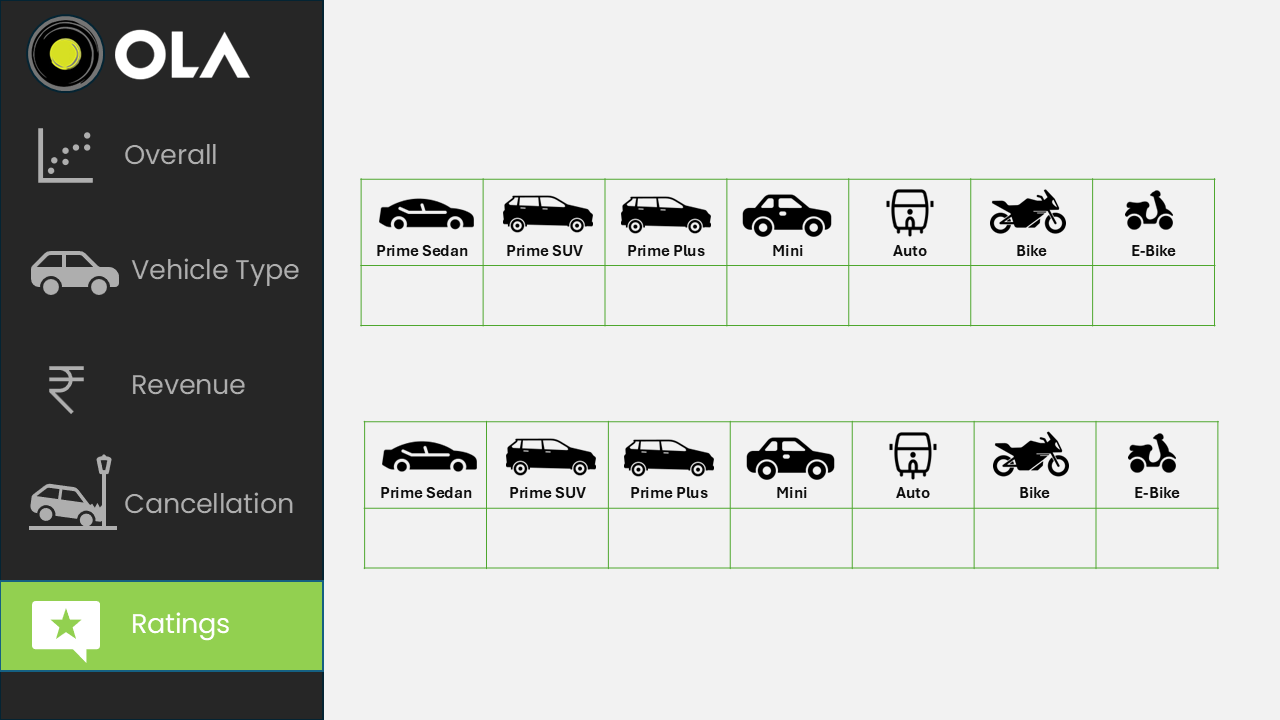

What the dashboard file says about the page in this screenshot:
{"tool":"powerbi","page":{"name":"RATING","canvas":[1280,720],"ordinal":4},"visuals":[{"type":"actionButton","box":[0,230,325,106.7],"z":0},{"type":"actionButton","box":[0,100,325,130],"z":1000},{"type":"actionButton","box":[0,336.7,325,115],"z":2000},{"type":"actionButton","box":[0,451.7,325,125],"z":3000},{"type":"card","fields":{"Values":["Avg(July.Driver_Ratings)"]},"box":[365.1,264.9,111.5,59.8],"z":3001},{"type":"card","fields":{"Values":["Avg(July.Driver_Ratings)"]},"box":[486.7,261.1,111.1,60],"z":3006},{"type":"card","fields":{"Values":["Avg(July.Driver_Ratings)"]},"box":[610,263.3,111.1,60],"z":3007},{"type":"card","fields":{"Values":["Avg(July.Driver_Ratings)"]},"box":[731.9,262.4,112.8,61.5],"z":3008},{"type":"card","fields":{"Values":["Avg(July.Driver_Ratings)"]},"box":[861.1,262.2,111.1,58.9],"z":3009},{"type":"card","fields":{"Values":["Avg(July.Driver_Ratings)"]},"box":[972.2,261.1,110,60],"z":3010},{"type":"card","fields":{"Values":["Avg(July.Driver_Ratings)"]},"box":[1091.1,261.1,111.1,58.9],"z":3011},{"type":"textbox","box":[365.6,138.9,274.4,34.4],"z":3012},{"type":"textbox","box":[365.6,377.8,176.7,36.7],"z":3013},{"type":"card","fields":{"Values":["Avg(July.Customer_Rating)"]},"box":[365.6,505.6,111.1,58.9],"z":3014},{"type":"card","fields":{"Values":["Avg(July.Customer_Rating)"]},"box":[486.7,505.6,111.1,58.9],"z":3015},{"type":"card","fields":{"Values":["Avg(July.Customer_Rating)"]},"box":[732.2,505.6,111.1,58.9],"z":3016},{"type":"card","fields":{"Values":["Avg(July.Customer_Rating)"]},"box":[853.3,505.6,111.1,58.9],"z":3017},{"type":"card","fields":{"Values":["Avg(July.Customer_Rating)"]},"box":[972.2,505.6,111.1,58.9],"z":3018},{"type":"card","fields":{"Values":["Avg(July.Driver_Ratings)"]},"box":[1091.1,505.6,111.1,58.9],"z":3019},{"type":"card","fields":{"Values":["Avg(July.Customer_Rating)"]},"box":[608.9,505.6,113.3,58.9],"z":3020},{"type":"slicer","title":"DATE","fields":{"Values":["July.Date"]},"box":[326,8,396,110],"z":3021}]}

Visuals, with their boxes on the page's 1280x720 design canvas (x1, y1, x2, y2). These are canvas units, not pixel positions in the 1280x720 screenshot, which may show the page scaled, cropped or inside an application window:
actionButton: (0, 230, 325, 337)
actionButton: (0, 100, 325, 230)
actionButton: (0, 337, 325, 452)
actionButton: (0, 452, 325, 577)
card - Avg(July.Driver_Ratings): (365, 265, 477, 325)
card - Avg(July.Driver_Ratings): (487, 261, 598, 321)
card - Avg(July.Driver_Ratings): (610, 263, 721, 323)
card - Avg(July.Driver_Ratings): (732, 262, 845, 324)
card - Avg(July.Driver_Ratings): (861, 262, 972, 321)
card - Avg(July.Driver_Ratings): (972, 261, 1082, 321)
card - Avg(July.Driver_Ratings): (1091, 261, 1202, 320)
textbox: (366, 139, 640, 173)
textbox: (366, 378, 542, 414)
card - Avg(July.Customer_Rating): (366, 506, 477, 564)
card - Avg(July.Customer_Rating): (487, 506, 598, 564)
card - Avg(July.Customer_Rating): (732, 506, 843, 564)
card - Avg(July.Customer_Rating): (853, 506, 964, 564)
card - Avg(July.Customer_Rating): (972, 506, 1083, 564)
card - Avg(July.Driver_Ratings): (1091, 506, 1202, 564)
card - Avg(July.Customer_Rating): (609, 506, 722, 564)
"DATE" slicer: (326, 8, 722, 118)
